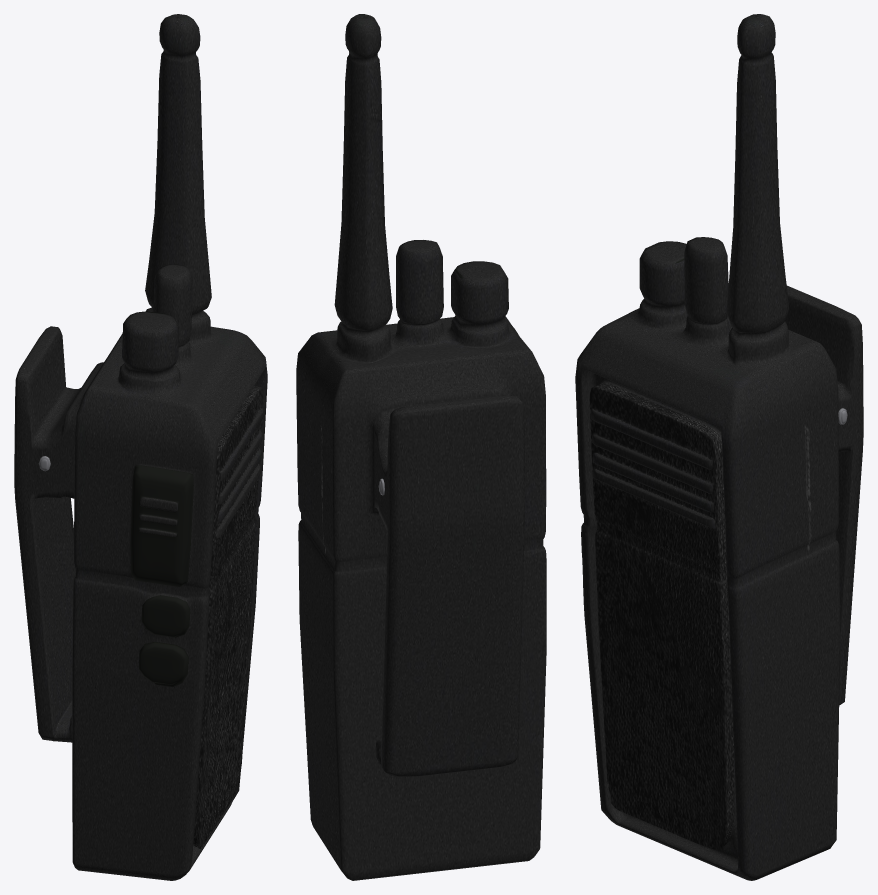
File: Robbers_T3ANI210_WalkieTalkie_Abdilla.fbx
The picture shows the model from 3 angles, left to right: view 1: azimuth 30°, elevation 25°; view 2: azimuth 150°, elevation 25°; view 3: azimuth 270°, elevation 25°; orthographic projection. The views are drawn at different scales.
Parts seen in each view (by area): view 1: WalkieTalkie_HighRes_1; view 2: WalkieTalkie_HighRes_1; view 3: WalkieTalkie_HighRes_1.
Boxes of the visible parts, x1=… form: WalkieTalkie_HighRes_1: x1=14, y1=14, x2=267, y2=880; WalkieTalkie_HighRes_1: x1=296, y1=14, x2=546, y2=880; WalkieTalkie_HighRes_1: x1=575, y1=14, x2=863, y2=880.
Bounding box in the file's own units: 16.19 × 52.63 × 16.29.
2 materials, 2 textured.
